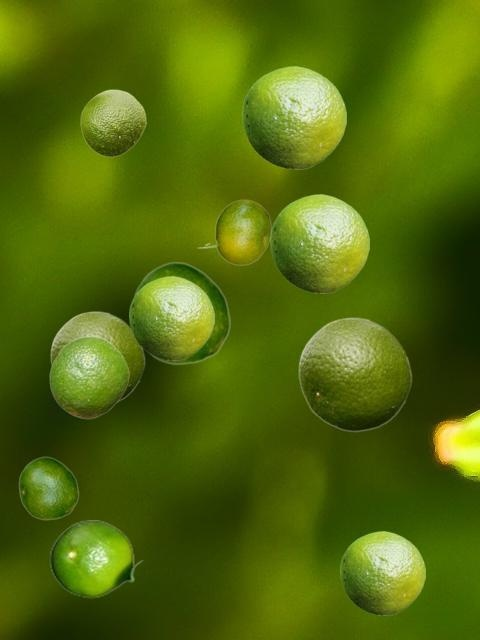calamansi: (298, 316, 411, 431), (242, 66, 345, 168), (133, 261, 230, 364), (270, 194, 368, 292), (50, 310, 144, 401), (49, 520, 143, 597), (340, 531, 424, 614), (129, 276, 213, 359), (49, 336, 128, 418), (196, 199, 270, 264), (80, 89, 145, 156), (18, 456, 78, 519)
